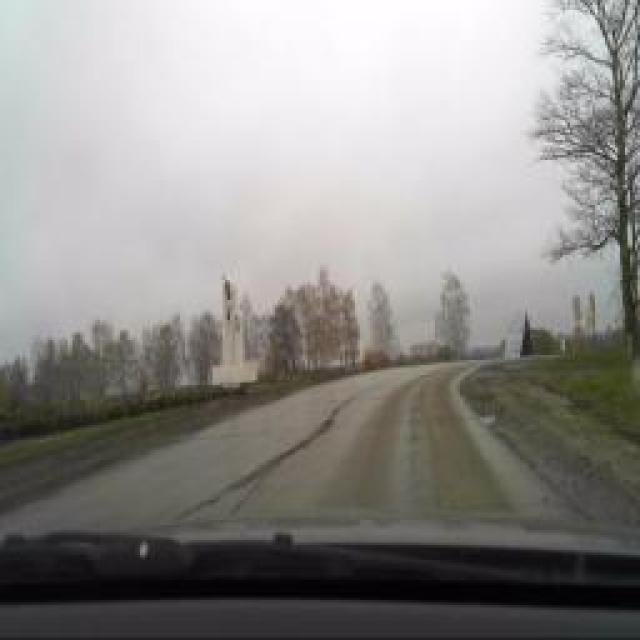sign: (571, 295, 581, 313), (588, 294, 598, 311)
